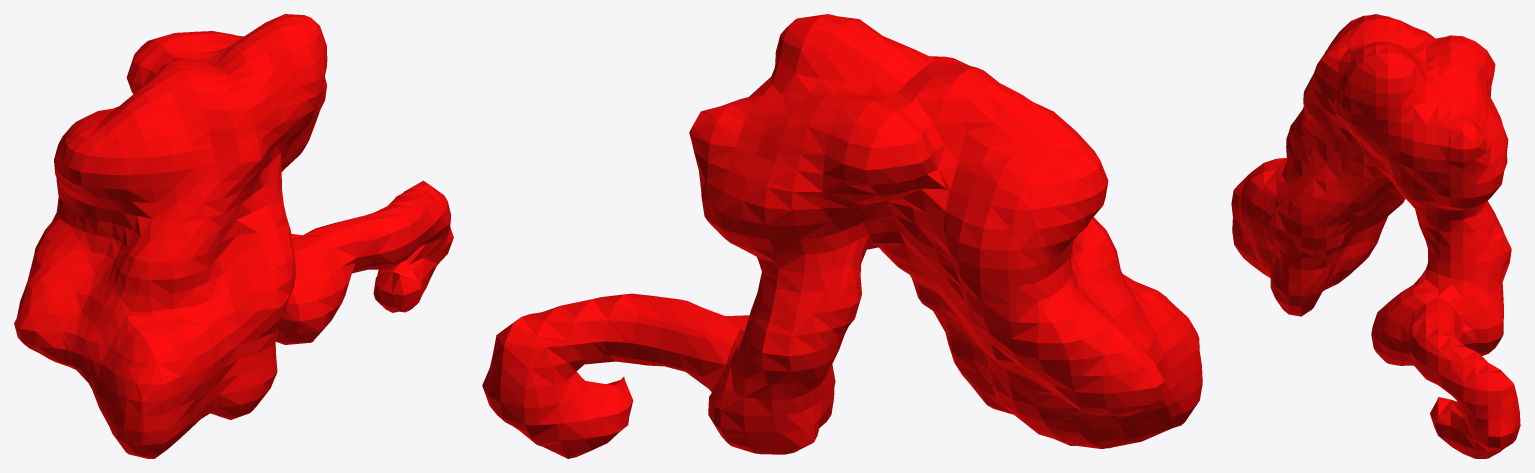
Rendered from dppC_coarse.dae.
3 views of the same model, side by side, from view 1: azimuth 30°, elevation 25°; view 2: azimuth 150°, elevation 25°; view 3: azimuth 270°, elevation 25° (orthographic). The views are drawn at different scales.
Visible parts, largest first — view 1: dppC; view 2: dppC; view 3: dppC.
Boxes of the visible parts, <box> form: dppC: <box>14,14,453,458</box>; dppC: <box>482,14,1202,458</box>; dppC: <box>1231,14,1520,458</box>.
Size of the model in its own units: 94.25 by 66.55 by 51.77.
